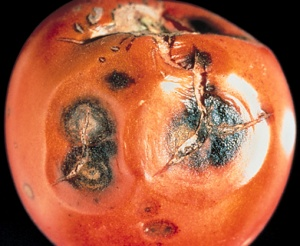anthracnose: (40, 84, 139, 219), (156, 62, 255, 194)
